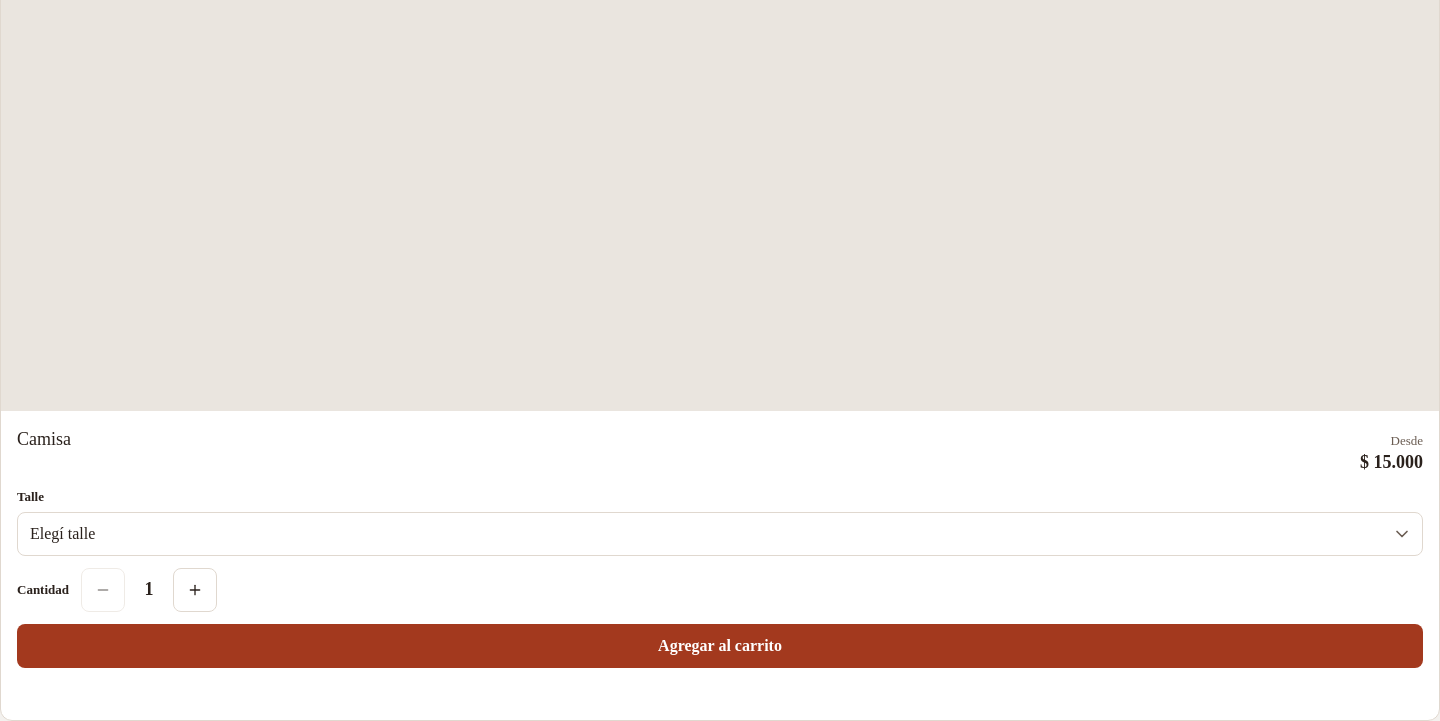
Test: Precios por talle › publica el más económico, cambia al elegir talle y los de consultar van a WhatsApp
(page scrolled)
Expected: the text "Desde" is shown, x1=1390 y1=432 x2=1423 y2=448
Expected: the text "$ 15.000" is shown, x1=1360 y1=452 x2=1423 y2=472
Select "XL" in the dropdown labelled "Talle" at x=720, y=534, box x1=17 y1=512 x2=1423 y2=556
(page scrolled)
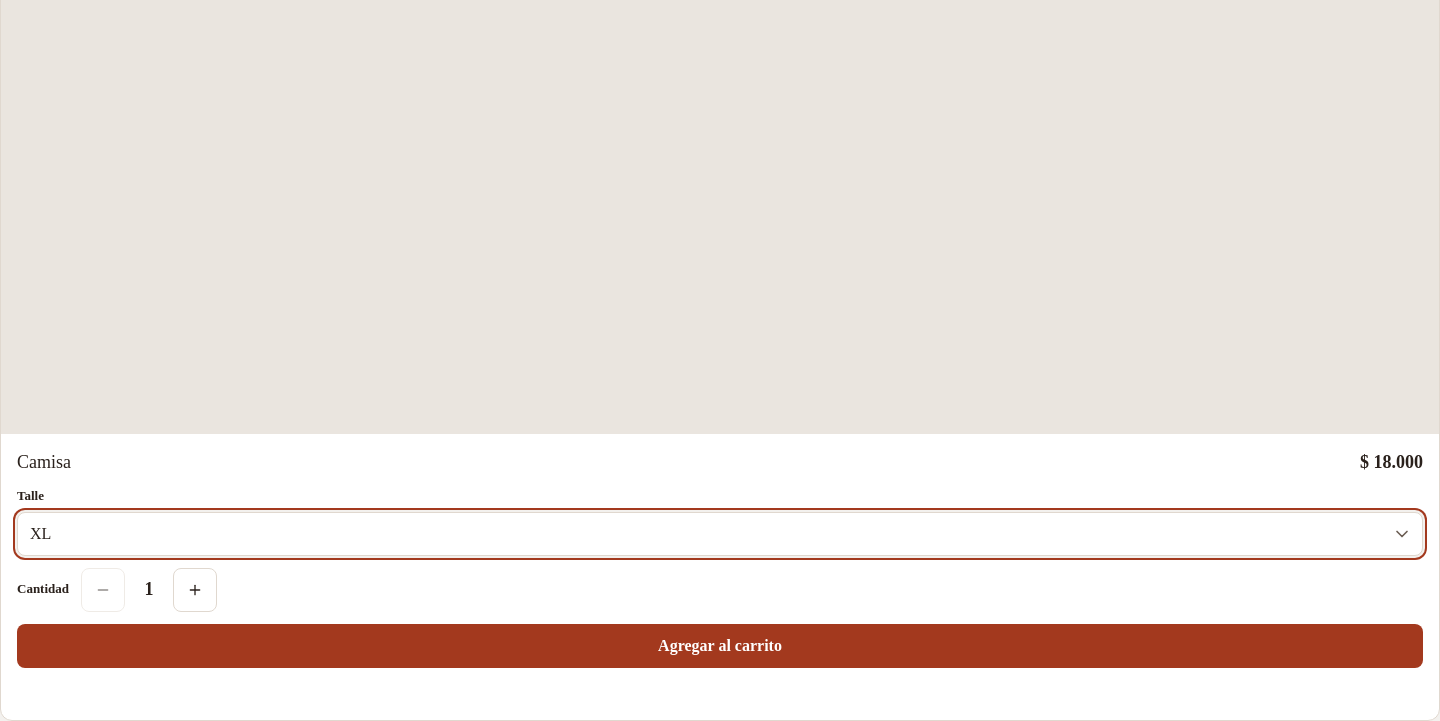
Now the text "$ 18.000" is shown, box x1=1360 y1=450 x2=1423 y2=475
Now the text "Desde" is gone
Click the button "Agregar al carrito" at x=720, y=646, box x1=17 y1=624 x2=1423 y2=668
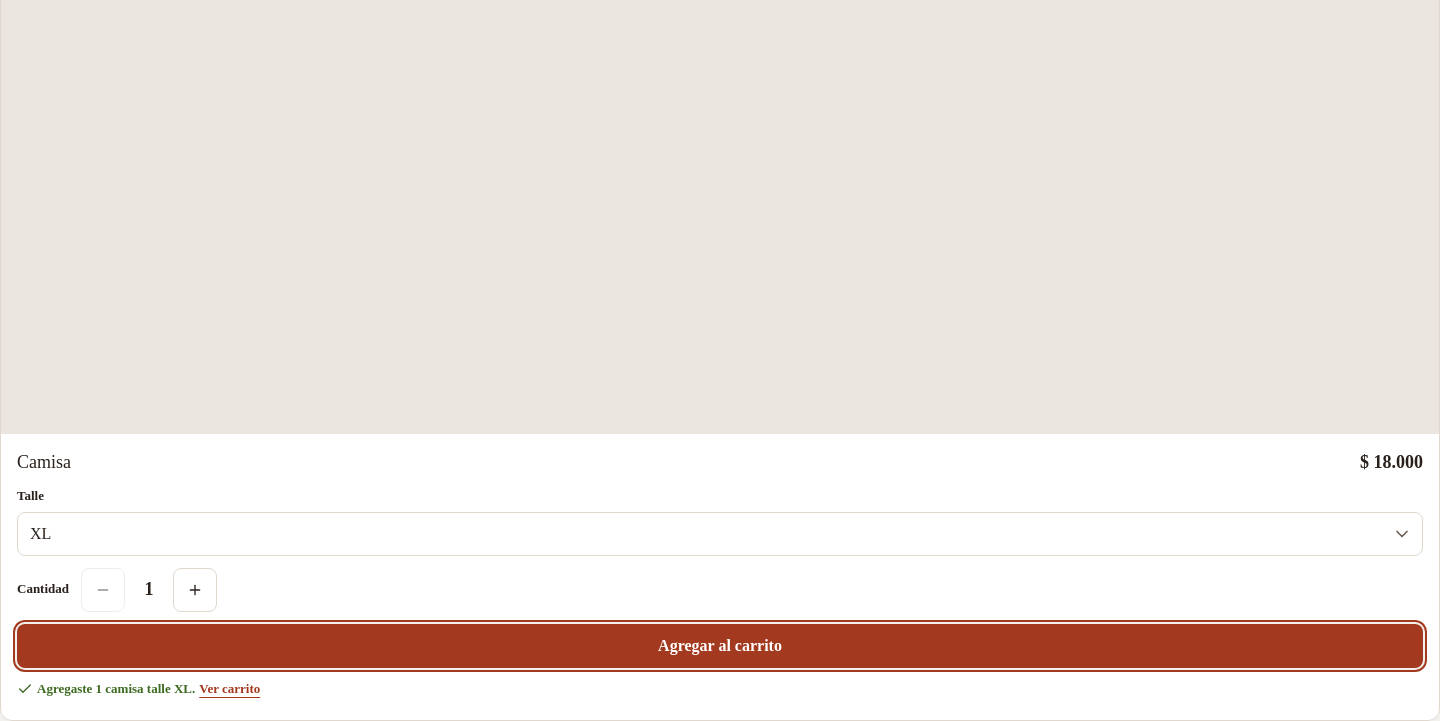
Select "5XL" in the dropdown labelled "Talle" at x=720, y=534, box x1=17 y1=512 x2=1423 y2=556
(page scrolled)
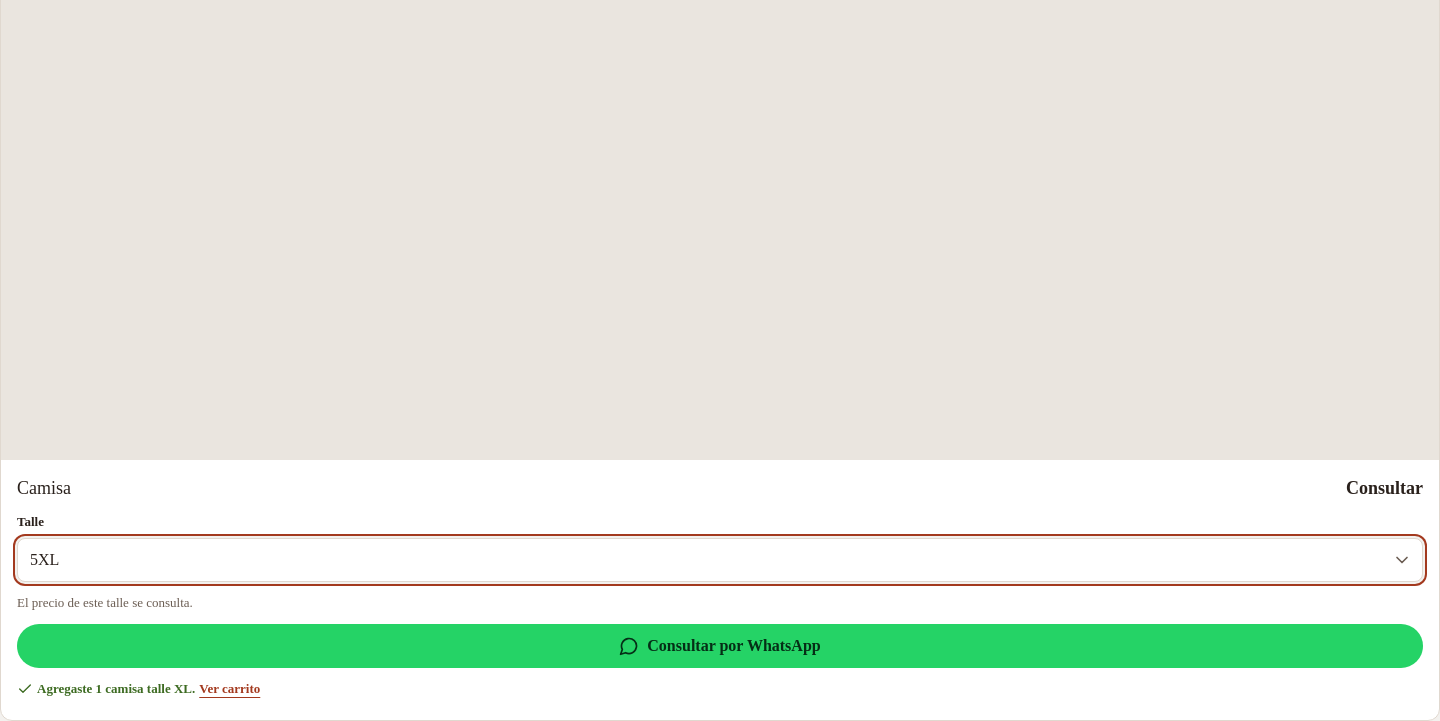
Now the text "Consultar" is shown, box x1=1346 y1=476 x2=1423 y2=501
Now the button "Agregar al carrito" is gone
